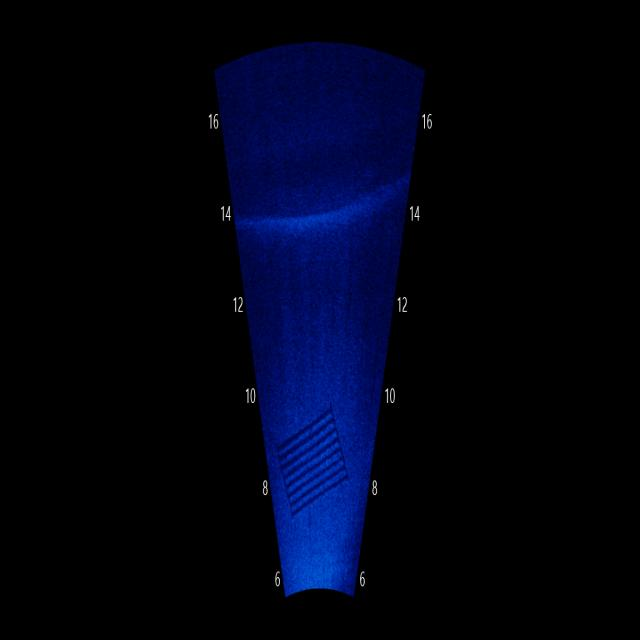square: (270, 397, 355, 532)
